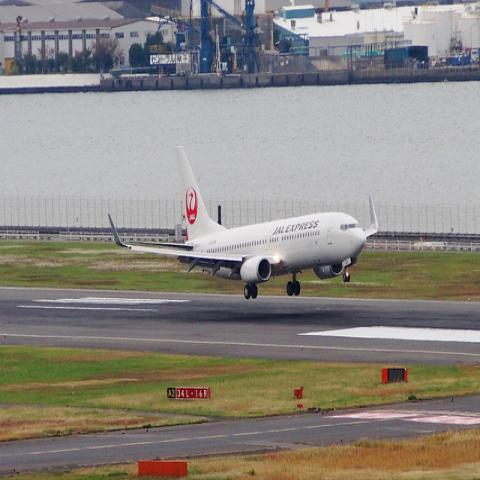truck: (452, 49, 478, 66), (290, 40, 304, 54)
